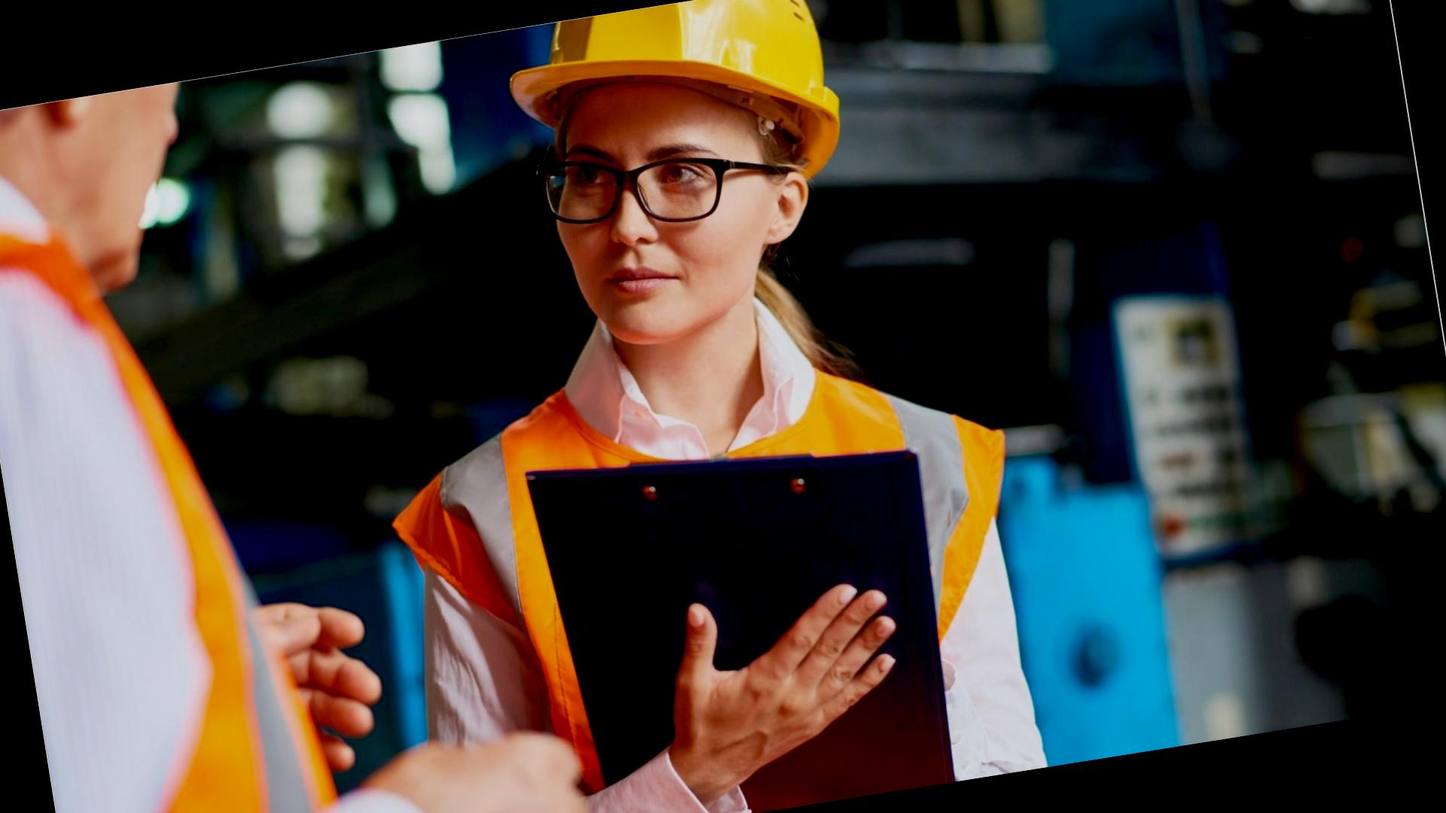helmet: (472, 0, 865, 243)
person: (326, 0, 1060, 813)
